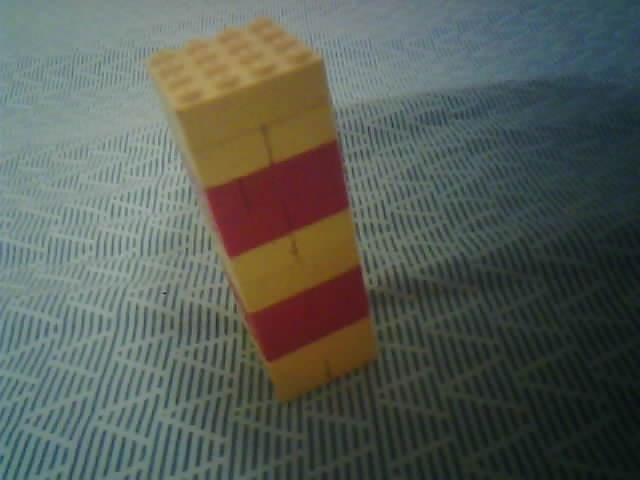lego: (144, 15, 382, 400)
